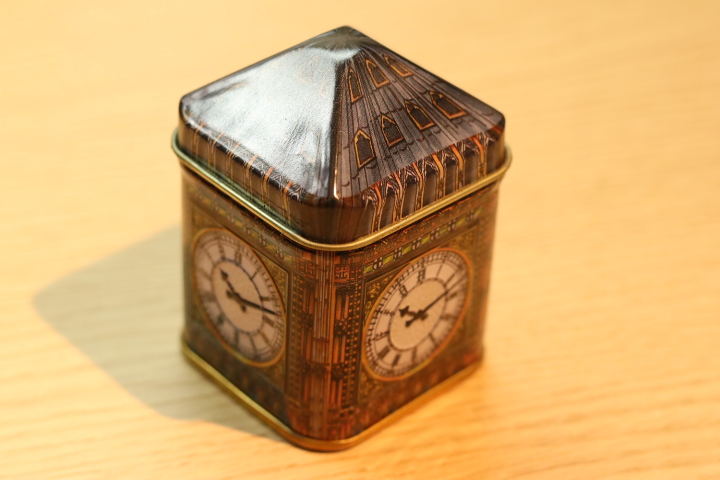Big Ben: (148, 10, 539, 473)
